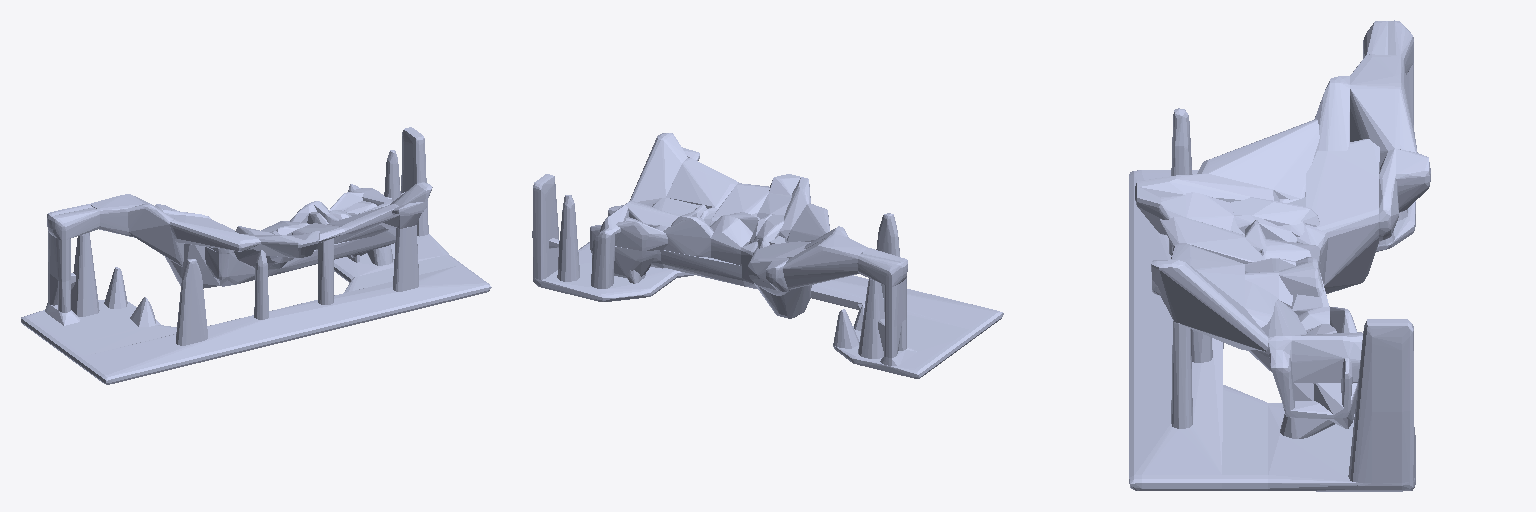
The robot description file, URDF, robot "4B-G65RH-Z.URDF":
<?xml version='1.0' encoding='utf-8'?>
<robot name="4B-G65RH-Z.URDF">
  <link name="world">
	</link>
  <link name="G65-RH-Z">
    <inertial>
      <origin xyz="0.041606 0.025582 0.19402" rpy="0 0 0" />
      <mass value="21.352" />
      <inertia ixx="0.52613" ixy="0.16519" ixz="0.13446" iyy="4.0546" iyz="-0.0029231" izz="4.409" />
    </inertial>
    <visual>
      <origin xyz="0 0 0" rpy="0 0 0" />
      <geometry>
        <mesh filename="meshes/G65-RH-Z.STL" />
      </geometry>
      <material name="">
        <color rgba="0.79216 0.81961 0.92941 1" />
      </material>
    </visual>
    <collision>
      <origin xyz="0 0 0" rpy="0 0 0" />
      <geometry>
        <mesh filename="collision/G65-RH-Z.STL" />
      <convex_hull filename="collision/G65-RH-Z_cvx.STL" /><convex filename="collision/G65-RH-Z_000.STL" /><convex filename="collision/G65-RH-Z_001.STL" /><convex filename="collision/G65-RH-Z_002.STL" /><convex filename="collision/G65-RH-Z_003.STL" /><convex filename="collision/G65-RH-Z_004.STL" /><convex filename="collision/G65-RH-Z_005.STL" /><convex filename="collision/G65-RH-Z_006.STL" /><convex filename="collision/G65-RH-Z_007.STL" /><convex filename="collision/G65-RH-Z_008.STL" /><convex filename="collision/G65-RH-Z_009.STL" /><convex filename="collision/G65-RH-Z_010.STL" /><convex filename="collision/G65-RH-Z_011.STL" /><convex filename="collision/G65-RH-Z_012.STL" /><convex filename="collision/G65-RH-Z_013.STL" /><convex filename="collision/G65-RH-Z_014.STL" /><convex filename="collision/G65-RH-Z_015.STL" /><convex filename="collision/G65-RH-Z_016.STL" /><convex filename="collision/G65-RH-Z_017.STL" /><convex filename="collision/G65-RH-Z_018.STL" /><convex filename="collision/G65-RH-Z_019.STL" /><convex filename="collision/G65-RH-Z_020.STL" /><convex filename="collision/G65-RH-Z_021.STL" /><convex filename="collision/G65-RH-Z_022.STL" /><convex filename="collision/G65-RH-Z_023.STL" /><convex filename="collision/G65-RH-Z_024.STL" /><convex filename="collision/G65-RH-Z_025.STL" /><convex filename="collision/G65-RH-Z_026.STL" /><convex filename="collision/G65-RH-Z_027.STL" /><convex filename="collision/G65-RH-Z_028.STL" /><convex filename="collision/G65-RH-Z_029.STL" /><convex filename="collision/G65-RH-Z_030.STL" /><convex filename="collision/G65-RH-Z_031.STL" /><convex filename="collision/G65-RH-Z_032.STL" /><convex filename="collision/G65-RH-Z_033.STL" /><convex filename="collision/G65-RH-Z_034.STL" /><convex filename="collision/G65-RH-Z_035.STL" /><convex filename="collision/G65-RH-Z_036.STL" /><convex filename="collision/G65-RH-Z_037.STL" /><convex filename="collision/G65-RH-Z_038.STL" /><convex filename="collision/G65-RH-Z_039.STL" /><convex filename="collision/G65-RH-Z_040.STL" /><convex filename="collision/G65-RH-Z_041.STL" /><convex filename="collision/G65-RH-Z_042.STL" /><convex filename="collision/G65-RH-Z_043.STL" /><convex filename="collision/G65-RH-Z_044.STL" /><convex filename="collision/G65-RH-Z_045.STL" /><convex filename="collision/G65-RH-Z_046.STL" /><convex filename="collision/G65-RH-Z_047.STL" /><convex filename="collision/G65-RH-Z_048.STL" /><convex filename="collision/G65-RH-Z_049.STL" /><convex filename="collision/G65-RH-Z_050.STL" /><convex filename="collision/G65-RH-Z_051.STL" /><convex filename="collision/G65-RH-Z_052.STL" /><convex filename="collision/G65-RH-Z_053.STL" /><convex filename="collision/G65-RH-Z_054.STL" /><convex filename="collision/G65-RH-Z_055.STL" /><convex filename="collision/G65-RH-Z_056.STL" /><convex filename="collision/G65-RH-Z_057.STL" /><convex filename="collision/G65-RH-Z_058.STL" /><convex filename="collision/G65-RH-Z_059.STL" /><convex filename="collision/G65-RH-Z_060.STL" /><convex filename="collision/G65-RH-Z_061.STL" /><convex filename="collision/G65-RH-Z_062.STL" /><convex filename="collision/G65-RH-Z_063.STL" /></geometry>
    </collision>
  </link>
  <joint name="world" type="fixed">
    <parent link="world" />
    <child link="G65-RH-Z" />
  </joint>
</robot>

--- Facts derived from the render (not from the file) ---
Views: 3 orthographic renders of the robot side by side, from view 1: azimuth 30°, elevation 25°; view 2: azimuth 150°, elevation 25°; view 3: azimuth 270°, elevation 25°.
Robot: 4B-G65RH-Z.URDF — 2 links, 1 joints (1 fixed); root link world; default pose: every joint at zero.
Links seen in each view (by area): view 1: G65-RH-Z; view 2: G65-RH-Z; view 3: G65-RH-Z.
Link boxes in pixels (x1,y1,x2,y2): G65-RH-Z: (21, 127, 491, 384); G65-RH-Z: (532, 133, 1003, 378); G65-RH-Z: (1129, 20, 1430, 491).
Bounding box of the posed robot: 1.74 × 0.6973 × 0.4979 m (x, y, z).
Meshes: 1 distinct files referenced, 1 mesh visuals loaded (1 binary STL).
